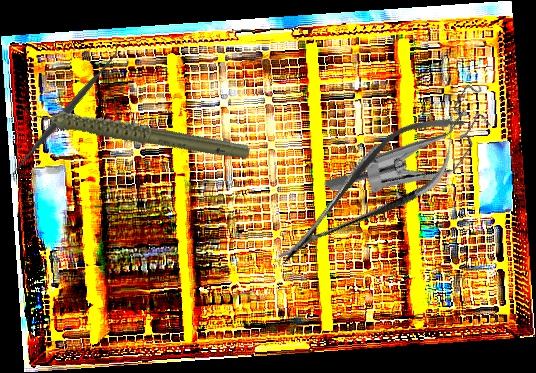Handpiece: (17, 53, 253, 205)
Micro Scissor: (257, 92, 485, 287)
Spatula Surgical: (1, 40, 130, 184)
Speculum: (321, 44, 508, 245)
